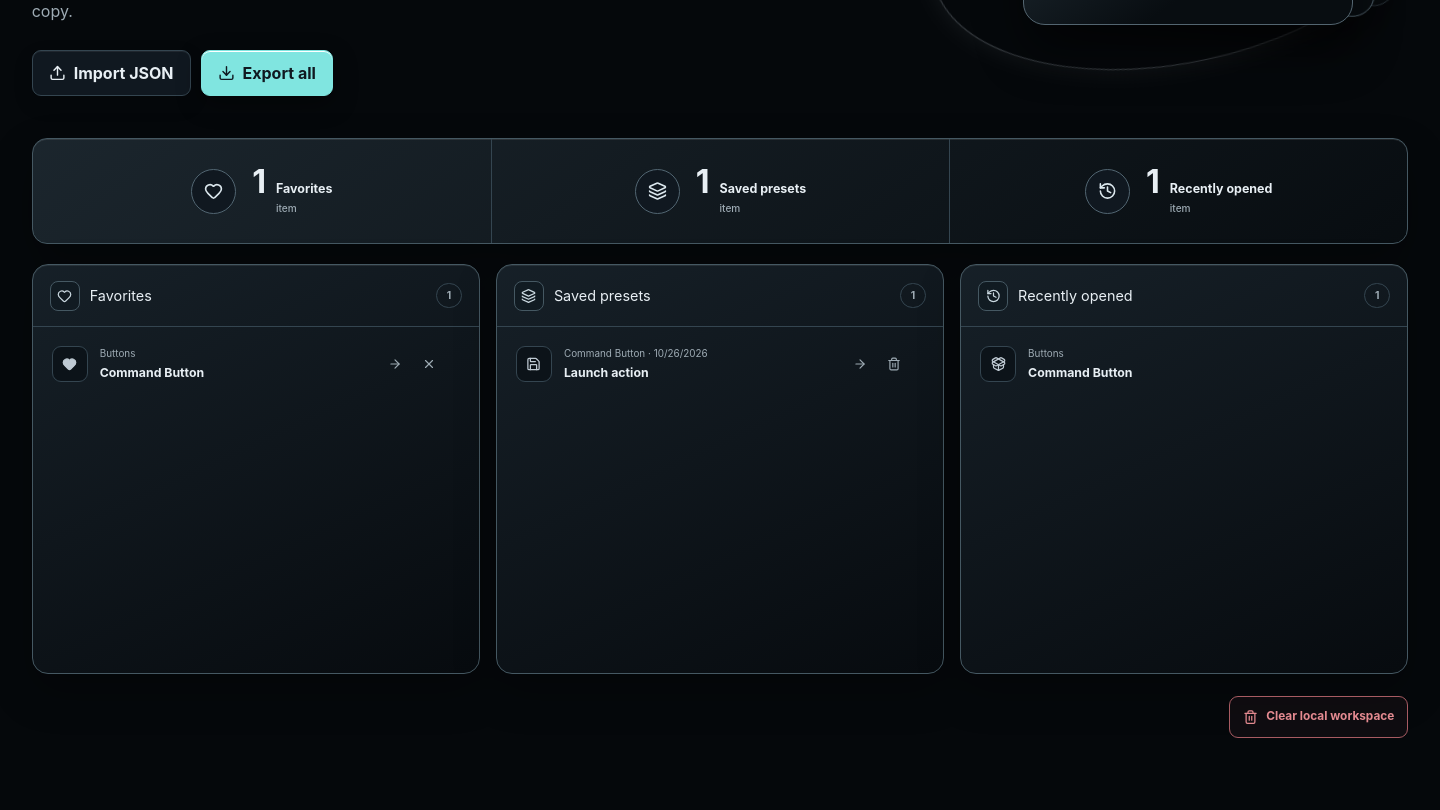
Workspace page › preserves data when clearing is cancelled and removes it after confirmation
The image size is (1440, 810).
(page scrolled)
Click the button "Clear local workspace".
click(1319, 717)  # box [1229,696,1408,738]
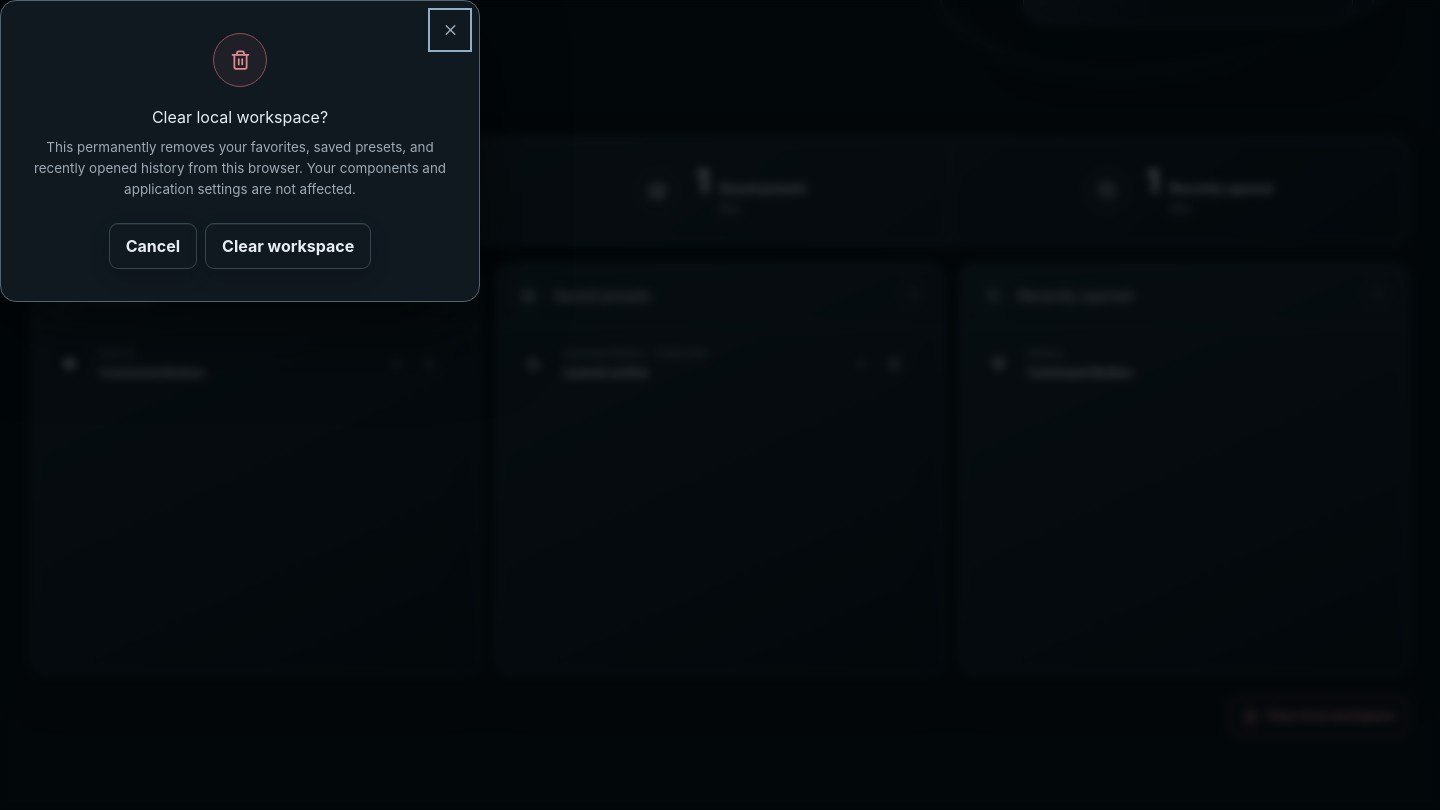
Click the button "Cancel".
click(153, 246)  # box [109,224,197,270]
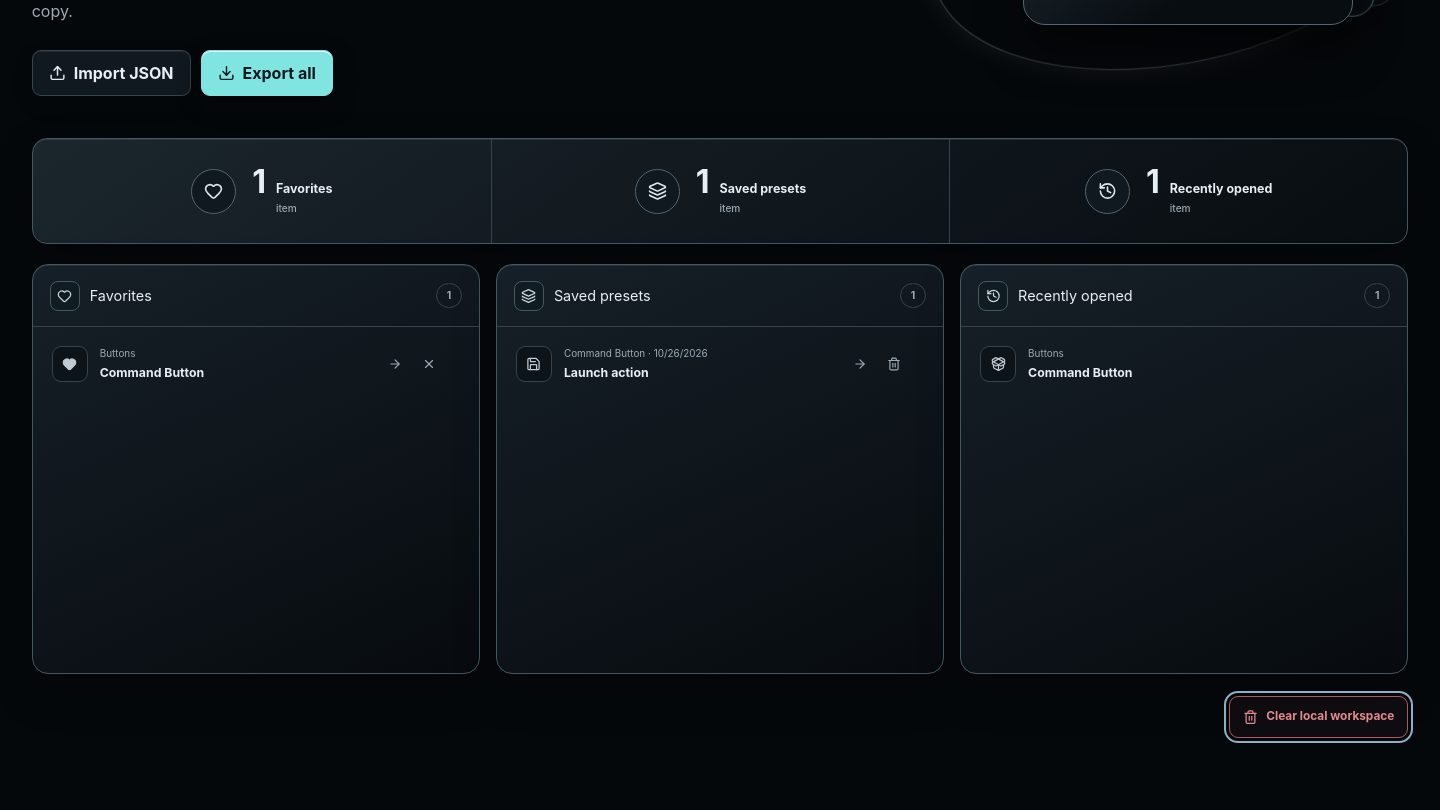
Click the button "Clear local workspace".
click(1319, 717)  # box [1229,696,1408,738]
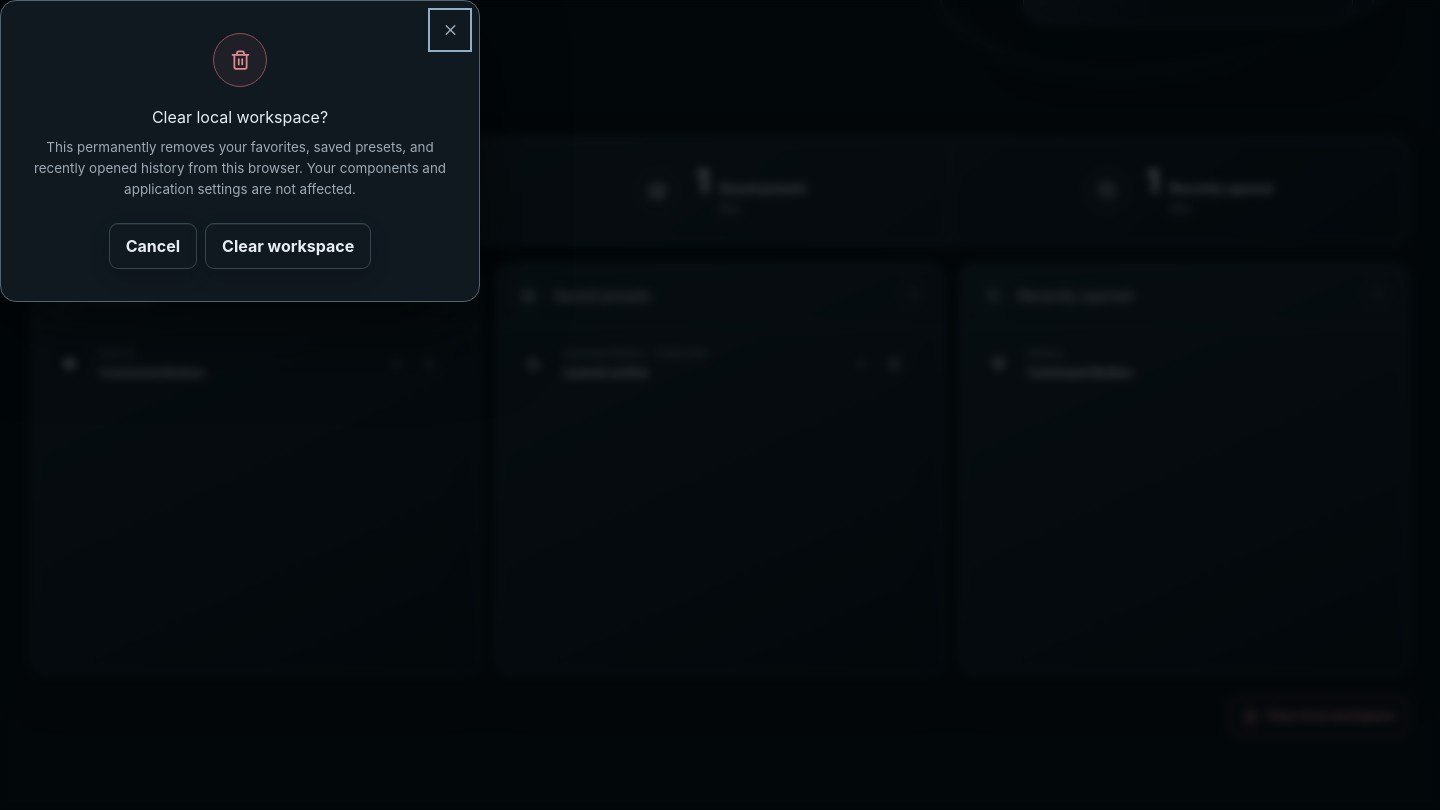
Click the button "Clear workspace".
click(288, 246)  # box [205,224,371,270]
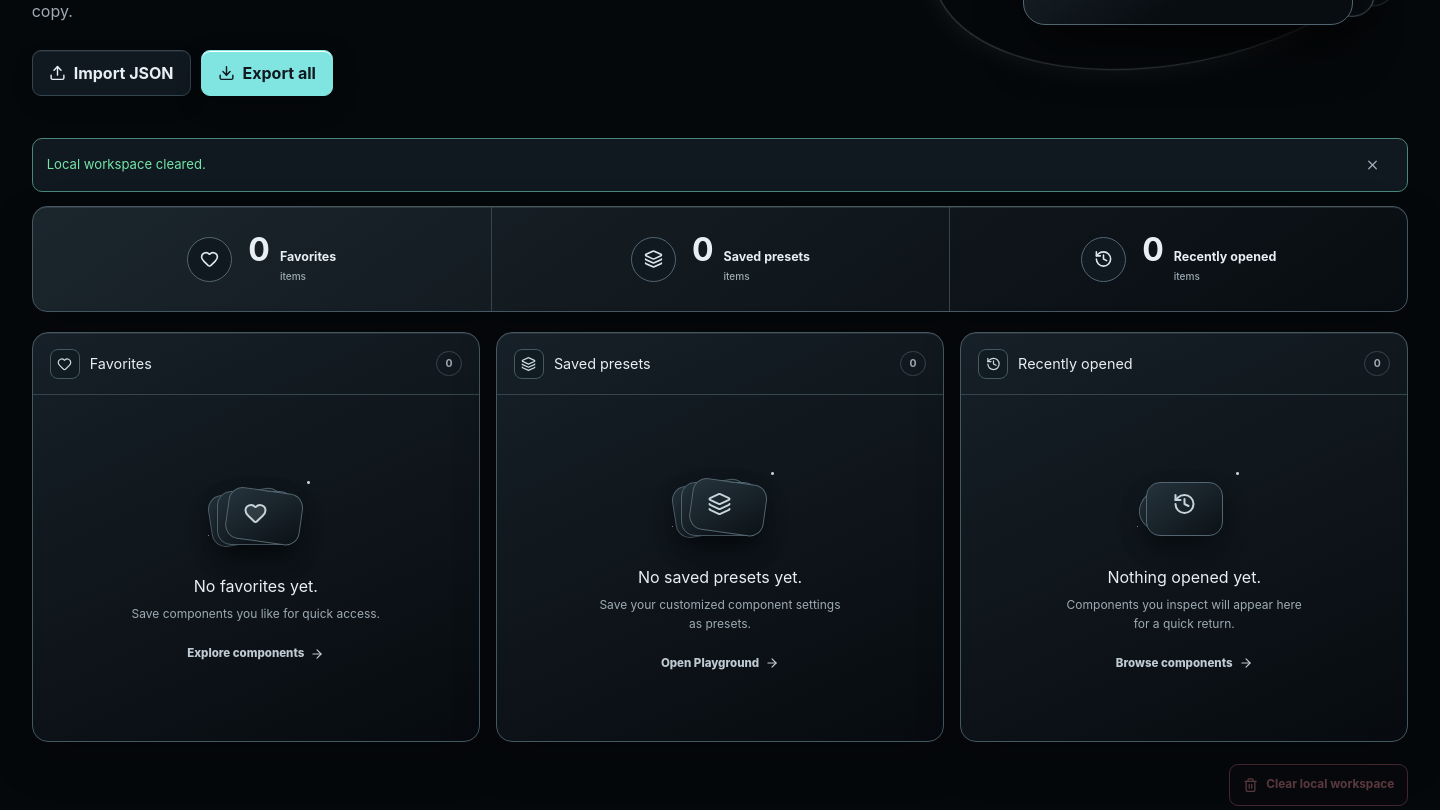
Check: the text "Local workspace cleared." is shown, box [47,155,206,175]
